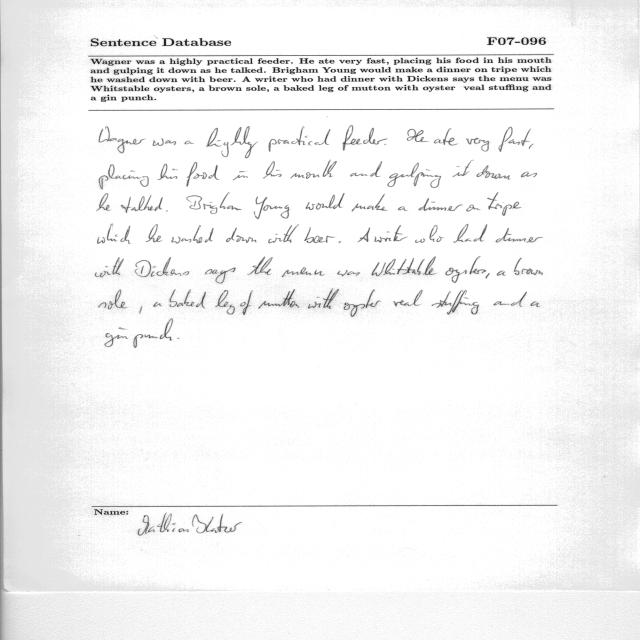word: (206, 126, 258, 159), (269, 126, 331, 152), (387, 163, 441, 188), (372, 257, 437, 277), (99, 164, 149, 189), (99, 127, 145, 154), (186, 192, 242, 214), (432, 290, 479, 315), (134, 318, 173, 348), (343, 126, 388, 151), (135, 257, 189, 277), (445, 257, 486, 283), (344, 290, 381, 317), (290, 160, 337, 179), (258, 289, 299, 309), (487, 192, 521, 216), (254, 196, 289, 219), (499, 127, 531, 152), (172, 225, 214, 244), (187, 162, 220, 186), (121, 195, 163, 213), (170, 289, 206, 309), (496, 228, 543, 243), (306, 193, 345, 210), (98, 224, 131, 244), (454, 224, 487, 243), (308, 289, 339, 309), (352, 194, 388, 211), (268, 225, 299, 244), (418, 198, 463, 211), (95, 257, 124, 277), (99, 290, 128, 310), (374, 226, 408, 243), (415, 225, 444, 243), (350, 161, 382, 177), (304, 228, 335, 244), (477, 165, 510, 180), (494, 292, 527, 307), (514, 258, 543, 275), (205, 268, 235, 284), (215, 291, 235, 315), (247, 257, 273, 275), (226, 228, 257, 243), (394, 290, 423, 306), (105, 327, 128, 347), (434, 129, 458, 146), (282, 268, 325, 277), (453, 160, 474, 177), (240, 290, 253, 315), (263, 162, 282, 179), (158, 164, 178, 180), (145, 224, 162, 242), (466, 138, 489, 151), (407, 129, 428, 142), (97, 193, 111, 211), (153, 138, 176, 146), (358, 228, 370, 243), (337, 270, 360, 276), (233, 171, 248, 180), (466, 205, 480, 212), (521, 172, 537, 177), (530, 302, 540, 307), (497, 271, 506, 276), (153, 302, 162, 307), (398, 207, 407, 211), (184, 141, 194, 144), (140, 306, 143, 314), (529, 144, 533, 149), (486, 274, 490, 279), (338, 241, 341, 243), (384, 144, 386, 145), (166, 211, 168, 212), (178, 338, 180, 339)
